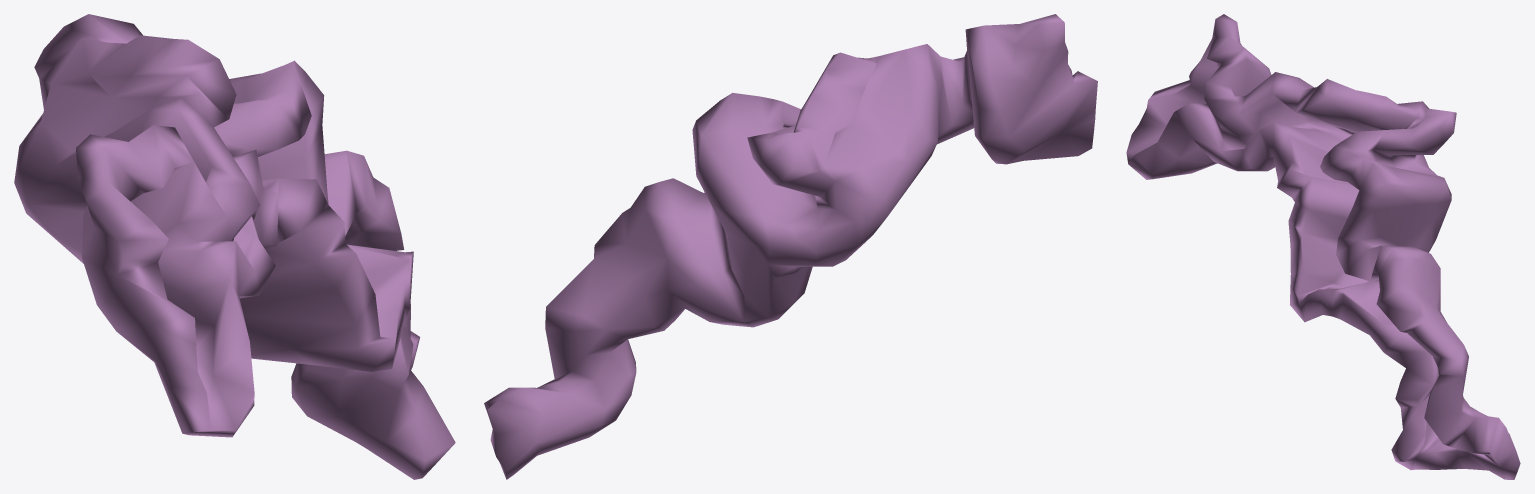
3 renders of one model, left to right at view 1: azimuth 30°, elevation 25°; view 2: azimuth 150°, elevation 25°; view 3: azimuth 270°, elevation 25°, orthographic. The views are drawn at different scales.
Visible parts, largest first — view 1: 左侧中央后沟; view 2: 左侧中央后沟; view 3: 左侧中央后沟.
Boxes of the visible parts, x1,y1,x2,y2 form: 左侧中央后沟: (14,14,455,479); 左侧中央后沟: (484,14,1097,479); 左侧中央后沟: (1126,14,1520,479).
Bounding box in the file's own units: 0.0622 × 0.0598 × 0.0659.
